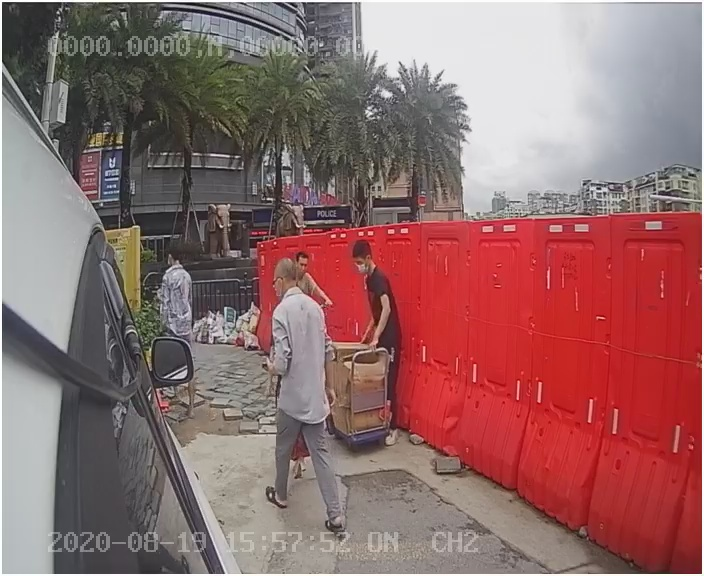person: (261, 255, 354, 531)
